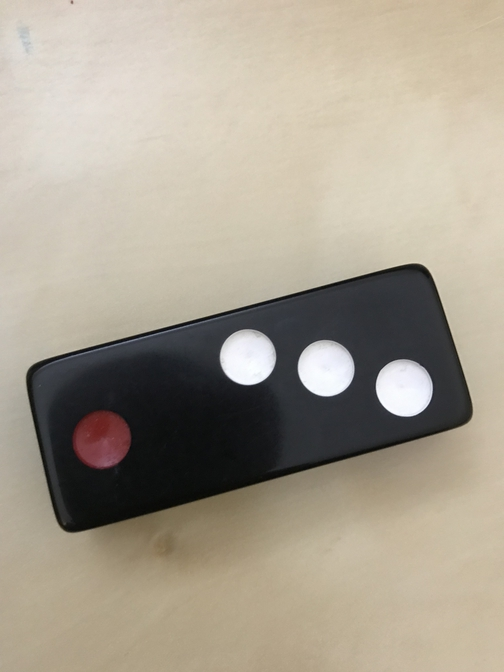goose: (26, 263, 475, 533)
